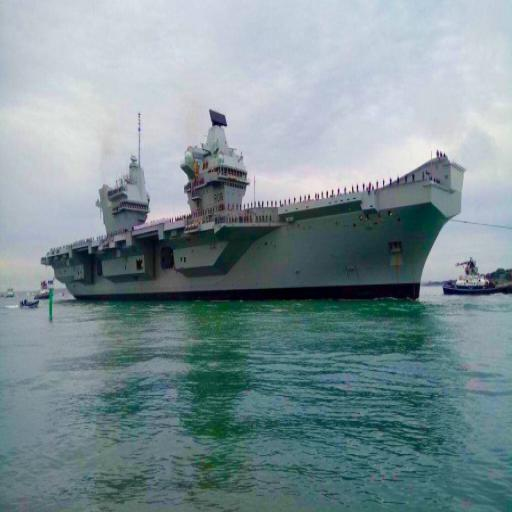Portanaves: (41, 104, 470, 309)
